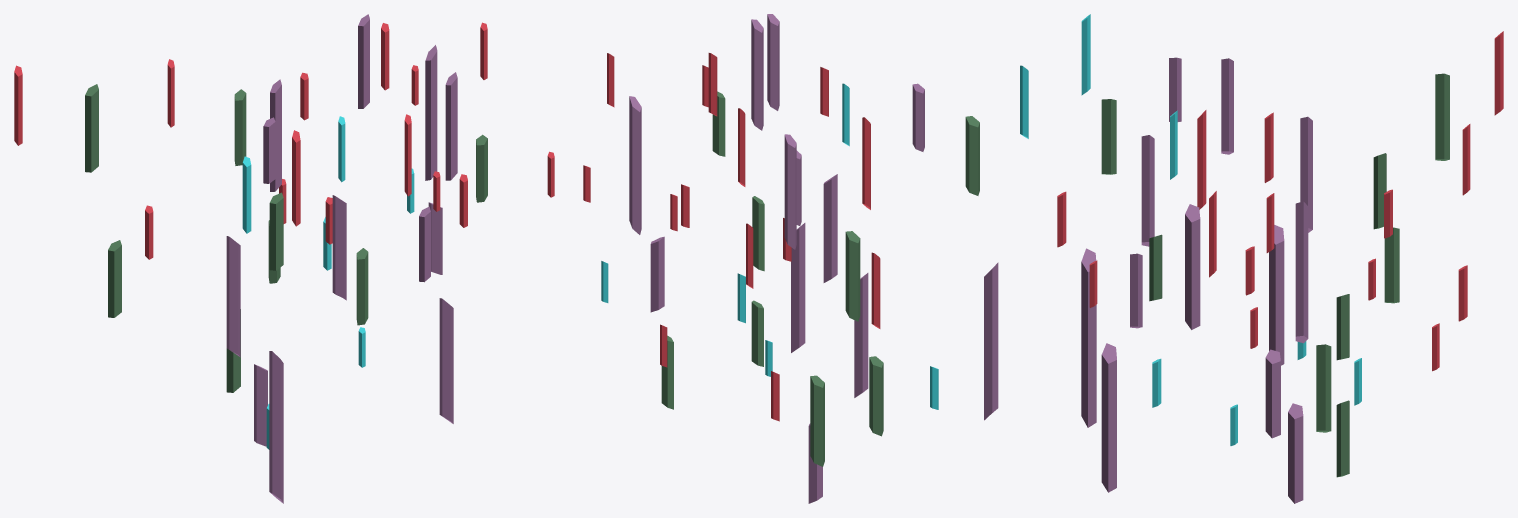
The model's file is Glitch.obj.
The picture shows the model from 3 angles, left to right: view 1: azimuth 30°, elevation 25°; view 2: azimuth 150°, elevation 25°; view 3: azimuth 270°, elevation 25°; orthographic projection. The views are drawn at different scales.
Parts seen in each view (by area): view 1: Gl1, Gl004, Cylinder_006, Gl2, Cylinder_007, Gl003, Cylinder_000, Cylinder_008; view 2: Gl1, Gl004, Cylinder_006, Gl2, Cylinder_007, Gl003, Cylinder_000, Cylinder_008; view 3: Gl1, Gl004, Cylinder_006, Gl2, Cylinder_007, Gl003, Cylinder_000, Cylinder_008.
Boxes of the visible parts, x1,y1,x2,y2 form: Gl1: (226,195,453,503); Gl004: (263,14,457,282); Cylinder_006: (85,84,283,392); Gl2: (14,23,467,259); Cylinder_007: (234,89,487,325); Gl003: (167,22,554,223); Cylinder_000: (242,156,331,449); Cylinder_008: (338,116,414,367); Gl1: (650,174,998,503); Gl004: (629,14,924,249); Cylinder_006: (810,116,979,466); Gl2: (681,53,880,421); Cylinder_007: (661,91,764,409); Gl003: (583,53,753,367); Cylinder_000: (737,65,1028,409); Cylinder_008: (601,83,849,376); Gl1: (1081,204,1303,503); Gl004: (1130,57,1312,343); Cylinder_006: (1101,73,1449,432); Gl2: (1057,31,1503,321); Cylinder_007: (1149,153,1386,477); Gl003: (1089,124,1470,371); Cylinder_000: (1081,14,1306,407); Cylinder_008: (1170,110,1361,445).
Size of the model in its own units: 7.51 by 8.51 by 7.12.
